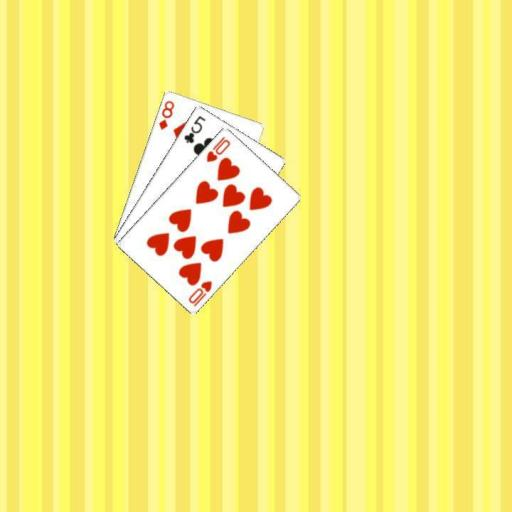card-corner: (203, 133, 232, 164), (185, 277, 213, 308), (181, 112, 207, 144), (155, 96, 176, 132)
